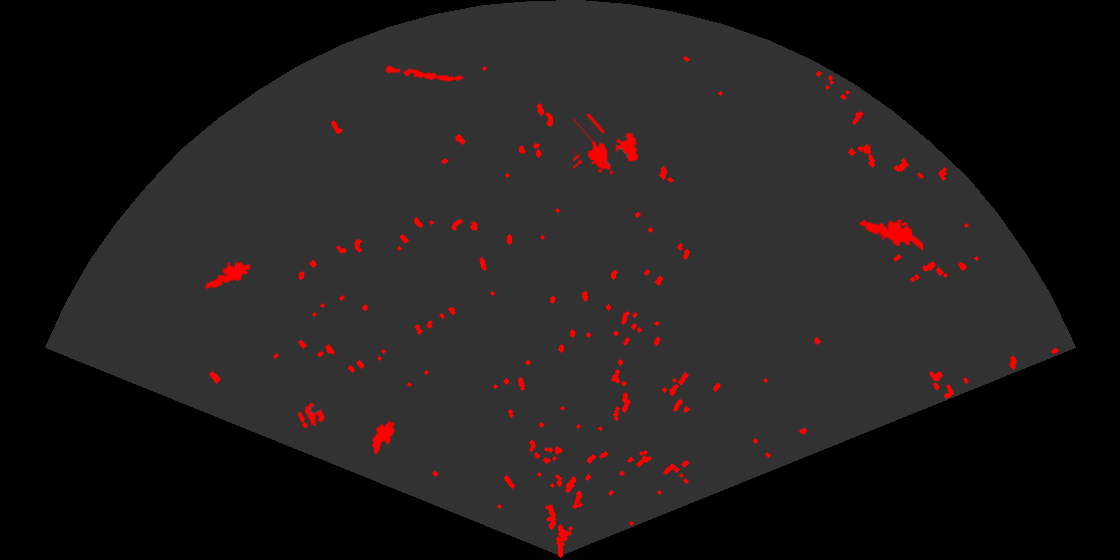AUV: (370, 419, 397, 456)
ball: (296, 401, 326, 430)
cage: (573, 114, 640, 176)
chain: (382, 64, 465, 84)
frogman: (858, 217, 923, 252), (203, 260, 250, 291)
